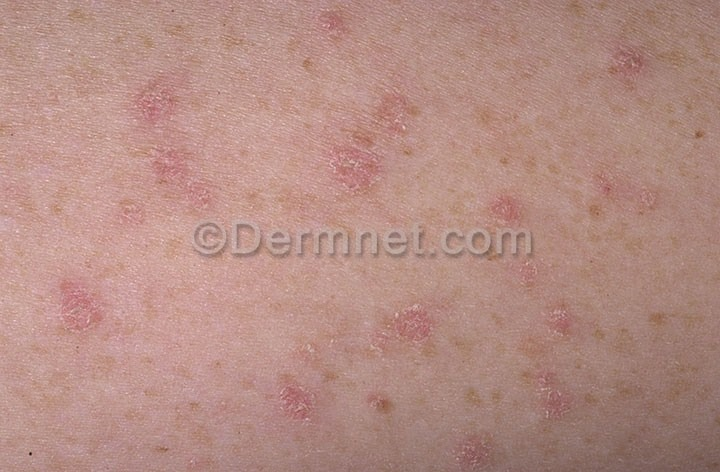Psoriasis: (476, 158, 674, 440), (254, 280, 460, 453), (285, 74, 447, 201), (117, 75, 227, 249), (24, 256, 130, 369), (581, 29, 669, 101)
